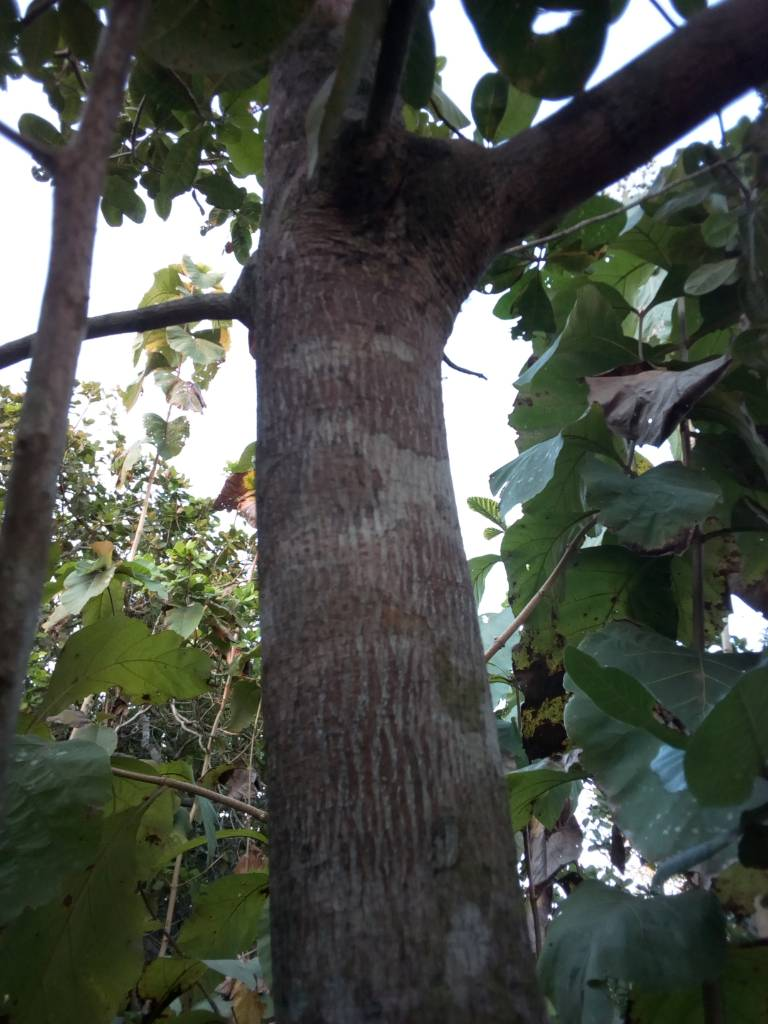Bactériose: (579, 449, 732, 557), (549, 641, 690, 747), (680, 535, 768, 641), (515, 616, 574, 763)
